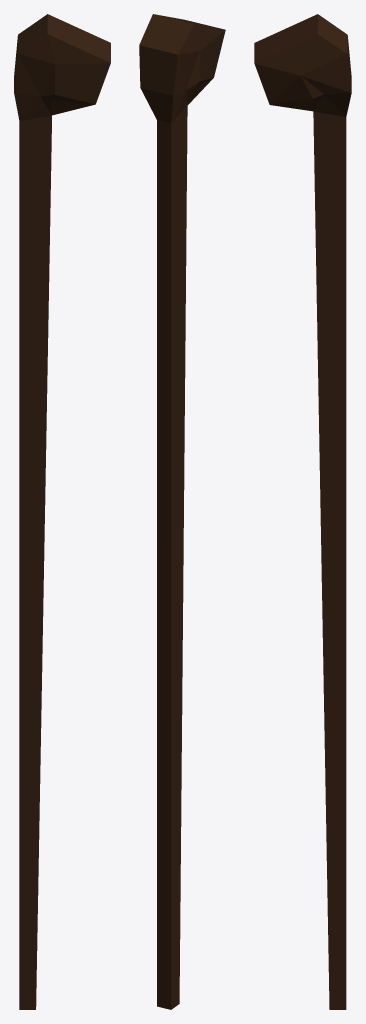
Rendered from Staff.FBX.
3 renders of one model, left to right at view 1: azimuth 90°, elevation 25°; view 2: azimuth 150°, elevation 25°; view 3: azimuth 270°, elevation 25°, orthographic.
Visible parts, largest first — view 1: Box001; view 2: Box001; view 3: Box001.
Boxes of the visible parts, box(x1,y1,x2,y2) form: Box001: box(14, 14, 110, 1009); Box001: box(139, 14, 225, 1009); Box001: box(254, 14, 351, 1009).
Bounding box in the file's own units: 3.36 × 64.8 × 5.81.
